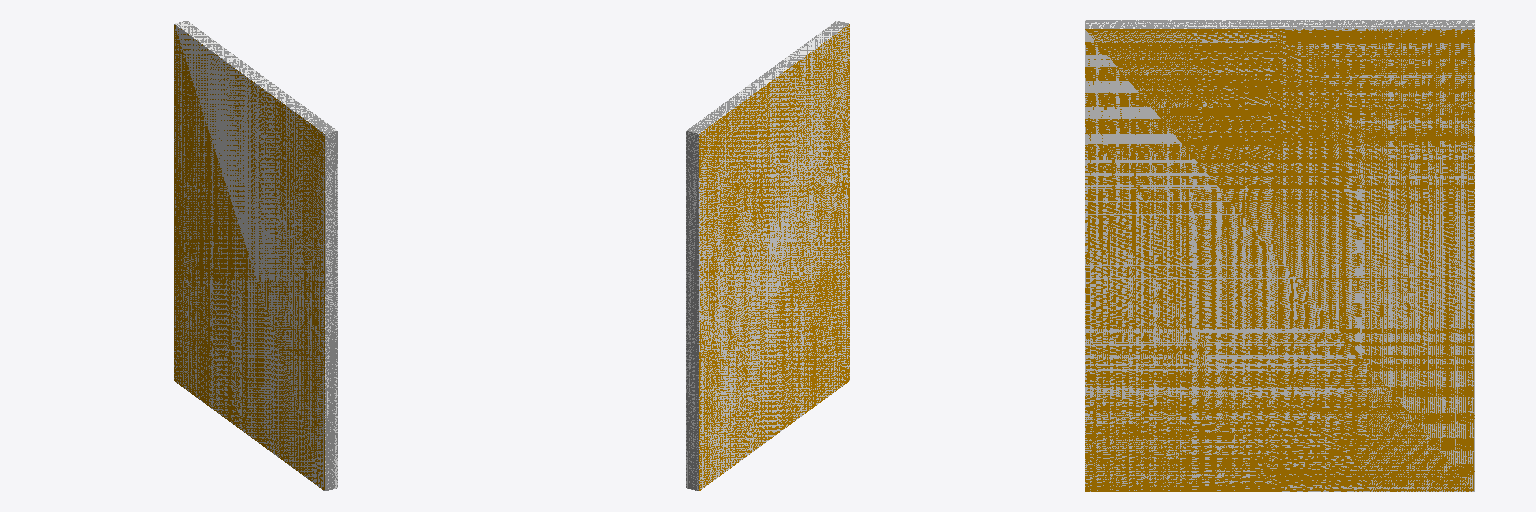
robot.urdf — my_object:
<?xml version="1.0" ?> 
<robot name="my_object" static="true">
  <link name="base_link">
  <inertial>
    <mass value="1.0" />
    <origin xyz="0 0 0.0" />
    <inertia ixx="1.0" ixy="0.0" ixz="0.0" iyy="1.0" iyz="0.0" izz="1.0"/>
  </inertial>
  <visual>
   <origin xyz="0 0 0.0" rpy="0 0 0" />
   <geometry>
     <mesh filename="package://cob_gazebo_objects/Media/models/blaueTuere02.dae"/>
   </geometry>
  </visual>
  <collision>
   <origin xyz="0 0 1.35" rpy="0 0 0" />
   <geometry>
     <box size="0.1 2.20 2.7" />
   </geometry>
  </collision>     
  </link>

<gazebo>
	<static>true</static>
</gazebo>
</robot>

--- Render facts (derived) ---
The picture shows the robot from 3 angles, left to right: view 1: azimuth 30°, elevation 25°; view 2: azimuth 150°, elevation 25°; view 3: azimuth 270°, elevation 25°; orthographic projection.
Model my_object with 1 links and 0 joints (none), rooted at base_link, posed every joint at zero.
Links seen in each view (by area): view 1: base_link; view 2: base_link; view 3: base_link.
Link boxes in pixels (bbox=[...]): base_link: bbox=[174, 21, 337, 490]; base_link: bbox=[686, 21, 849, 490]; base_link: bbox=[1085, 20, 1474, 491].
Size in the robot's own frame: 0.0025 by 0.0513 by 0.0671 metres.
1 mesh visuals loaded from 1 distinct referenced files (1 Collada DAE).